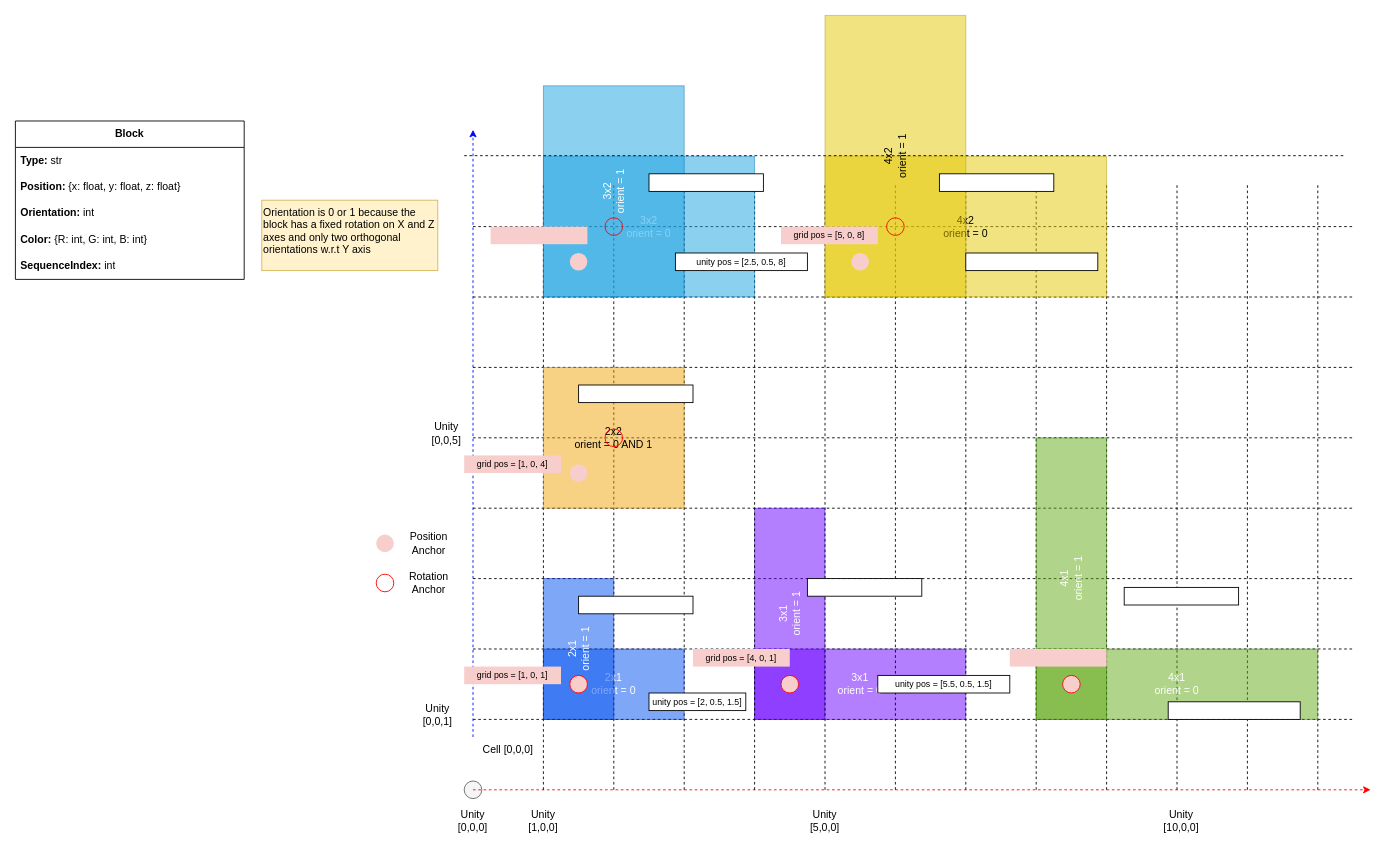
Some shapes in this 1393 by 849 pixel diagram are drawn without their labels. Here are the shapes that lost their labels. From the top down, the centre of each, then its label:
At [705,182]: "unity pos = [2, 0.5, 8.5]".
At [996,182]: "unity pos = [6, 0.5, 9]".
At [538,235]: "grid pos = [1, 0, 8]".
At [1031,261]: "unity pos = [7, 0.5, 8]".
At [635,393]: "unity pos = [2, 0.5, 5]".
At [635,604]: "unity pos = [1.5, 0.5, 2]".
At [864,587]: "unity pos = [4.5, 0.5, 2.5]".
At [1181,596]: "unity pos = [8.5, 0.5, 3]".
At [1057,657]: "grid pos = [8, 0, 1]".
At [1233,710]: "unity pos = [10, 0.5, 1.5]".
